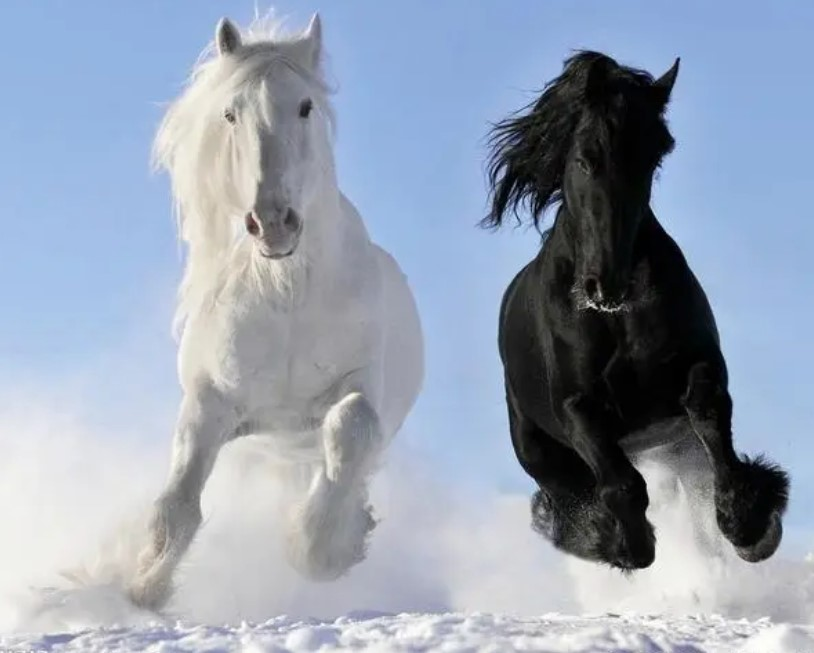horse: (122, 8, 426, 612), (474, 49, 791, 572)
